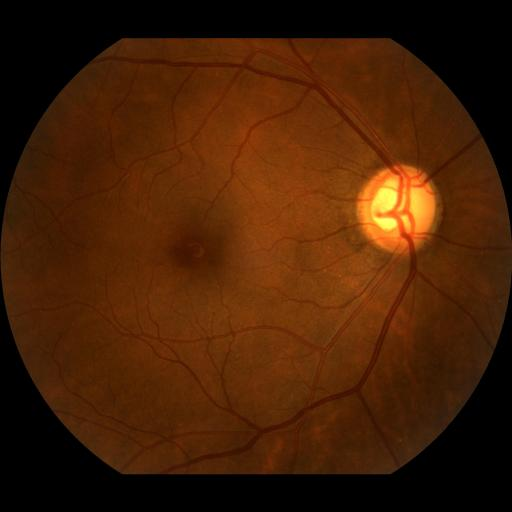Optic Cup: (371, 178, 418, 230)
Optic Disc: (357, 165, 443, 255)
